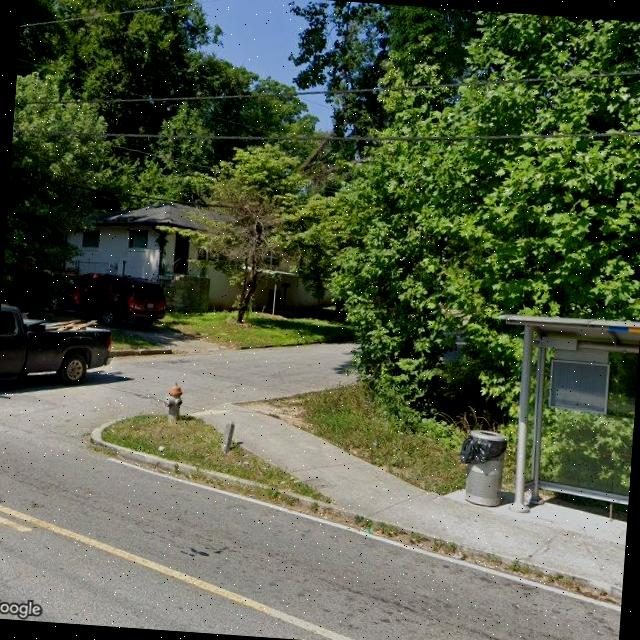seating: (597, 488, 629, 528)
shelter: (482, 309, 640, 539)
trash_can: (460, 429, 506, 508)
